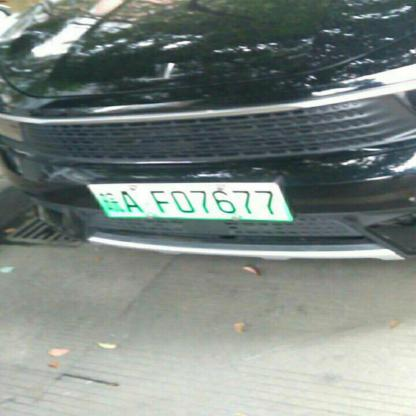lp: (86, 181, 294, 219)
